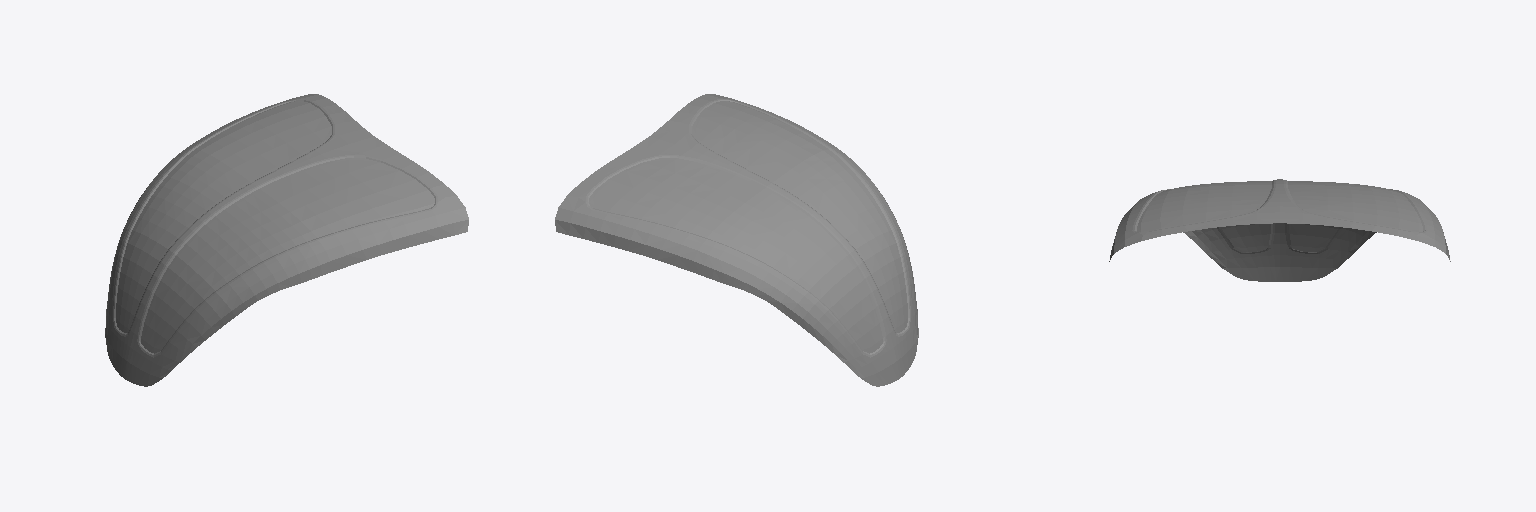
The model's file is VCof.obj.
3 views of the same model, side by side, from view 1: azimuth 30°, elevation 25°; view 2: azimuth 150°, elevation 25°; view 3: azimuth 270°, elevation 25° (orthographic).
Parts seen in each view (by area): view 1: Cofre; view 2: Cofre; view 3: Cofre.
Part boxes in pixels (x1,y1,x2,y2): Cofre: (105,94,468,386); Cofre: (555,94,918,386); Cofre: (1109,179,1450,281).
Size of the model in its own units: 12.41 by 8.14 by 13.91.